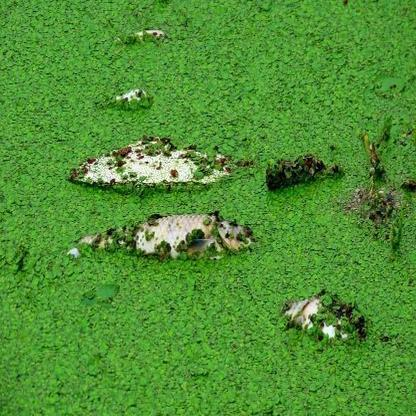deceased fish: (86, 211, 261, 269)
